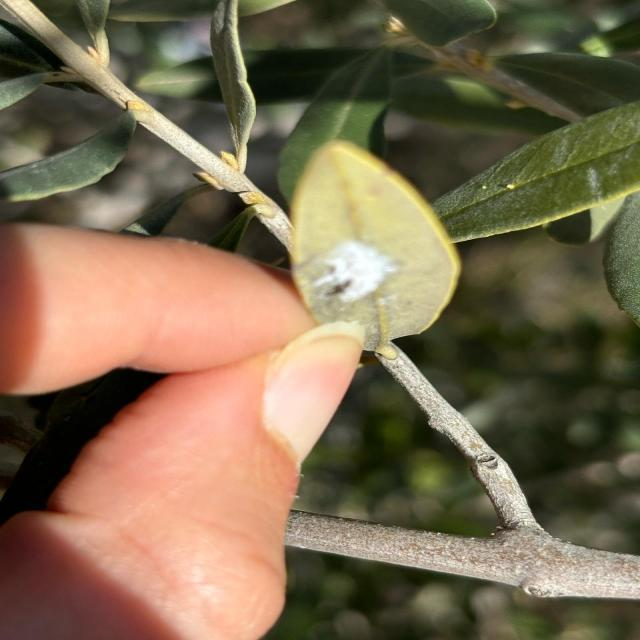Psyllid: (296, 206, 436, 350)
